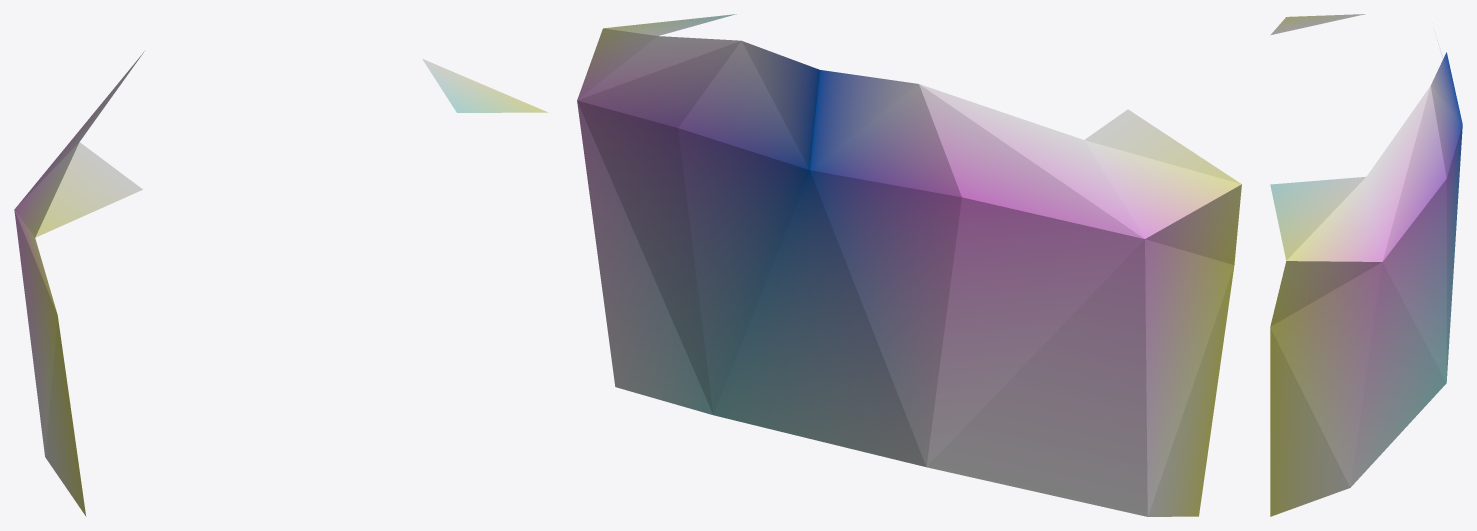
3 renders of one model, left to right at view 1: azimuth 30°, elevation 25°; view 2: azimuth 150°, elevation 25°; view 3: azimuth 270°, elevation 25°, orthographic. The views are drawn at different scales.
Parts seen in each view (by area): view 1: model_11AC; view 2: model_11AC; view 3: model_11AC.
Boxes of the visible parts, box(x1,y1,x2,y2) form: model_11AC: box(14, 50, 548, 516); model_11AC: box(577, 14, 1241, 516); model_11AC: box(1270, 14, 1462, 516).
Size of the model in its own units: 36 by 25 by 12.
